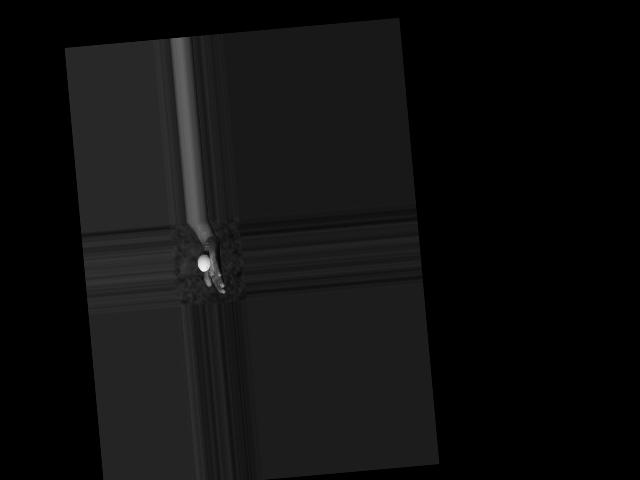egg: (196, 253, 211, 271)
